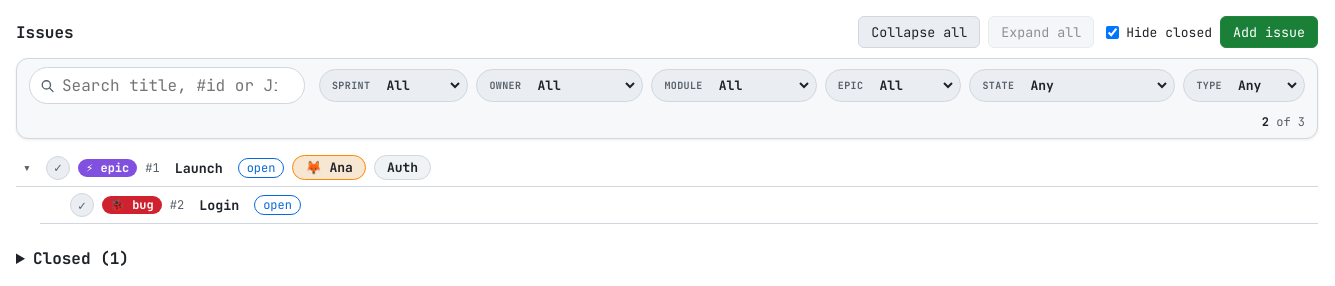
it: IssuesPage › shows tree with badges, chips and hides closed by default
The image size is (1335, 286).
Expected: the list item shows "#1", [16,149,1318,224]
Expected: the list item shows "Ana", [330,159,353,176]
Click the checkbox labelled "Hide closed". click: x=1113, y=32
box: [1106,26,1119,38]
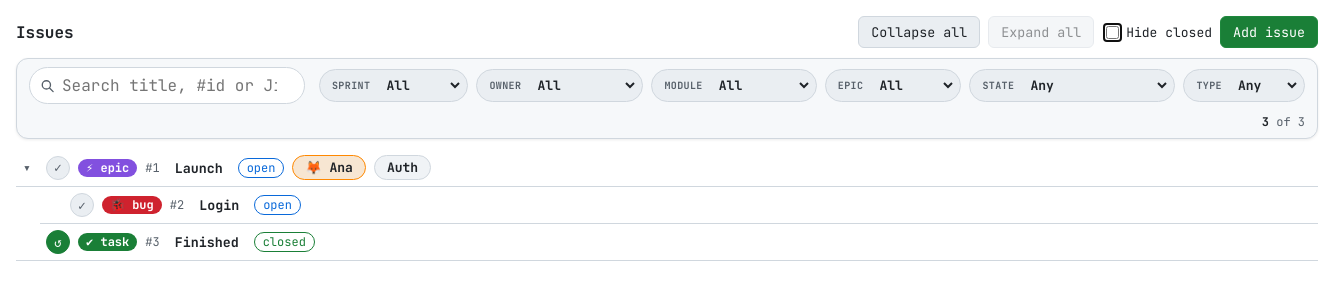
Now the button with aria-label "Open issue Finished" is shown, box [168,230,246,254]
Now the heading "Closed (1)" is gone
